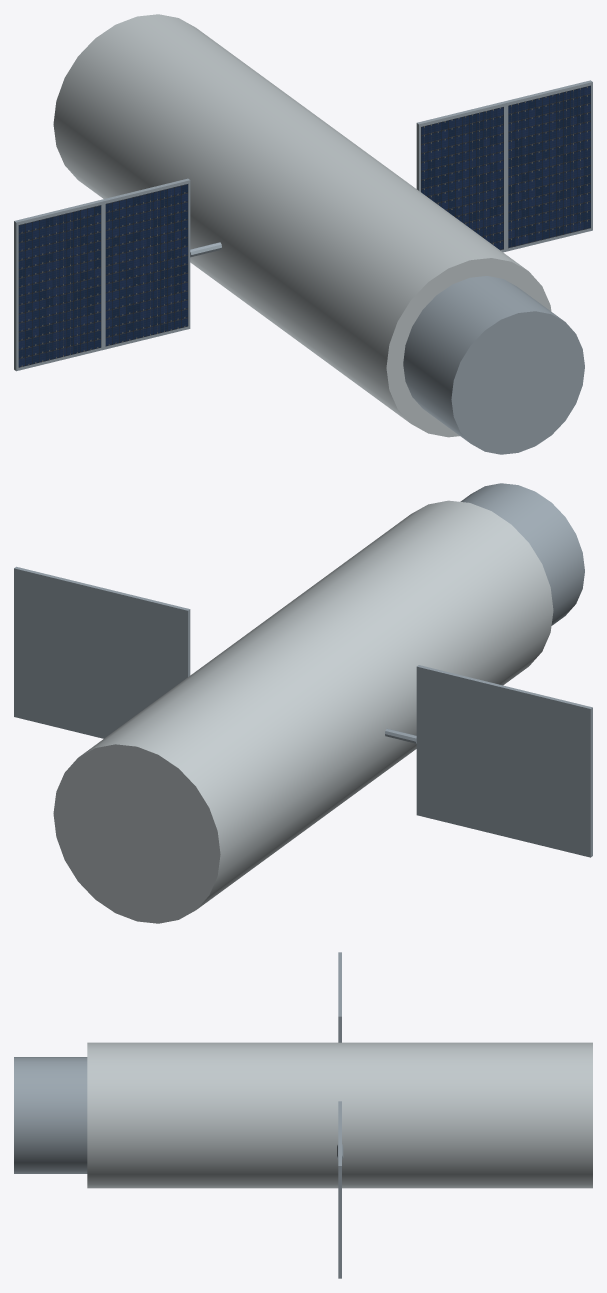
The model's file is ref-almaz-5160.glb.
3 renders of one model, top to bottom at view 1: azimuth 30°, elevation 25°; view 2: azimuth 150°, elevation 25°; view 3: azimuth 270°, elevation 25°, orthographic. The views are drawn at different scales.
Parts seen in each view (by area): view 1: Spacecraft body, Photovoltaic laminates (×4), Cylindrical section, Array frame (×4); view 2: Spacecraft body, Array frame (×4), Cylindrical section; view 3: Spacecraft body, Cylindrical section, Array frame.
Part boxes in pixels (left/top/right/bottom): Spacecraft body: left=53, top=14, right=551, bottom=437; Photovoltaic laminates (×4): left=18, top=85, right=590, bottom=367; Cylindrical section: left=403, top=276, right=584, bottom=454; Array frame (×4): left=14, top=80, right=592, bottom=371; Spacecraft body: left=53, top=500, right=553, bottom=923; Array frame (×4): left=14, top=566, right=592, bottom=857; Cylindrical section: left=460, top=483, right=584, bottom=625; Spacecraft body: left=87, top=1042, right=592, bottom=1188; Cylindrical section: left=14, top=1057, right=87, bottom=1173; Array frame: left=338, top=1133, right=341, bottom=1278.
Size of the model in its own units: 14.5 by 4.2 by 16.6.
Materials: 3 (1 with a texture image).
